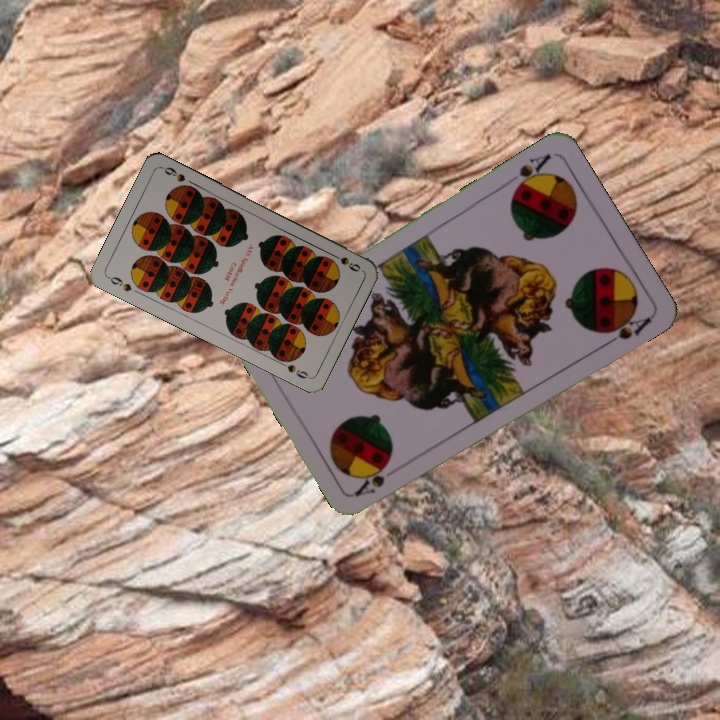S9: (326, 249, 363, 275), (104, 272, 135, 294)
SA: (509, 149, 554, 196), (351, 461, 392, 499)
